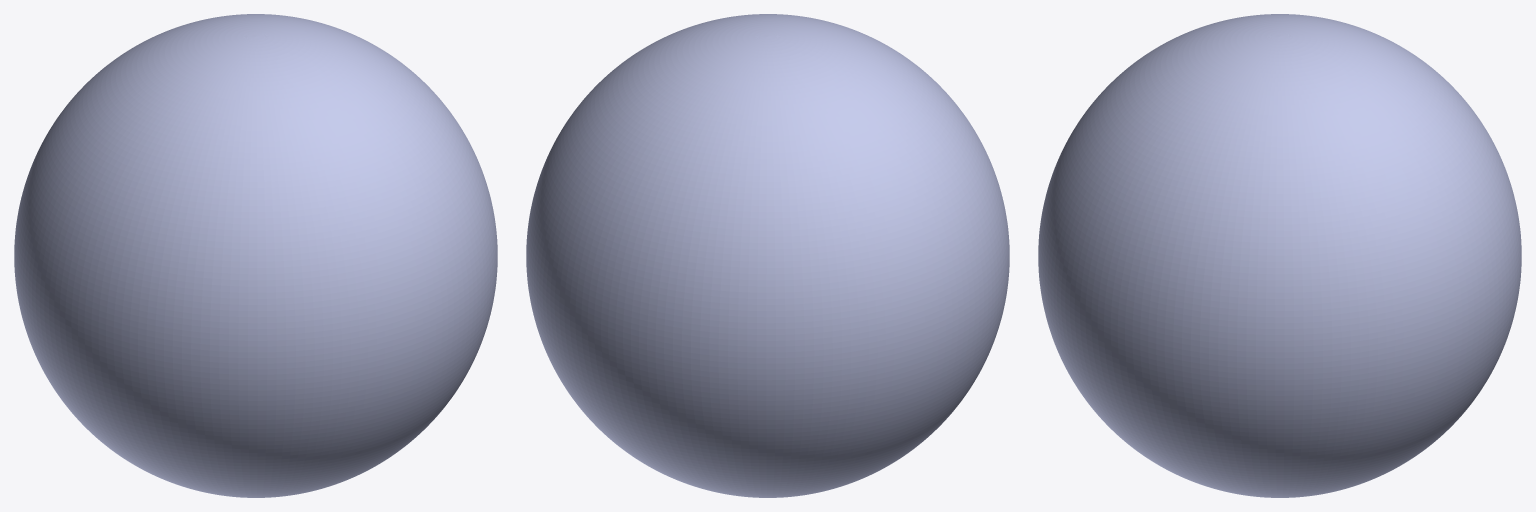
File: water.gltf
3 views of the same model, side by side, from view 1: azimuth 30°, elevation 25°; view 2: azimuth 150°, elevation 25°; view 3: azimuth 270°, elevation 25° (orthographic).
Visible parts, largest first — view 1: Sphere; view 2: Sphere; view 3: Sphere.
Boxes of the visible parts, x1,y1,x2,y2 form: Sphere: (14,14,497,497); Sphere: (526,14,1009,497); Sphere: (1038,14,1521,497).
Bounding box in the file's own units: 1.2 × 1.2 × 1.2.
